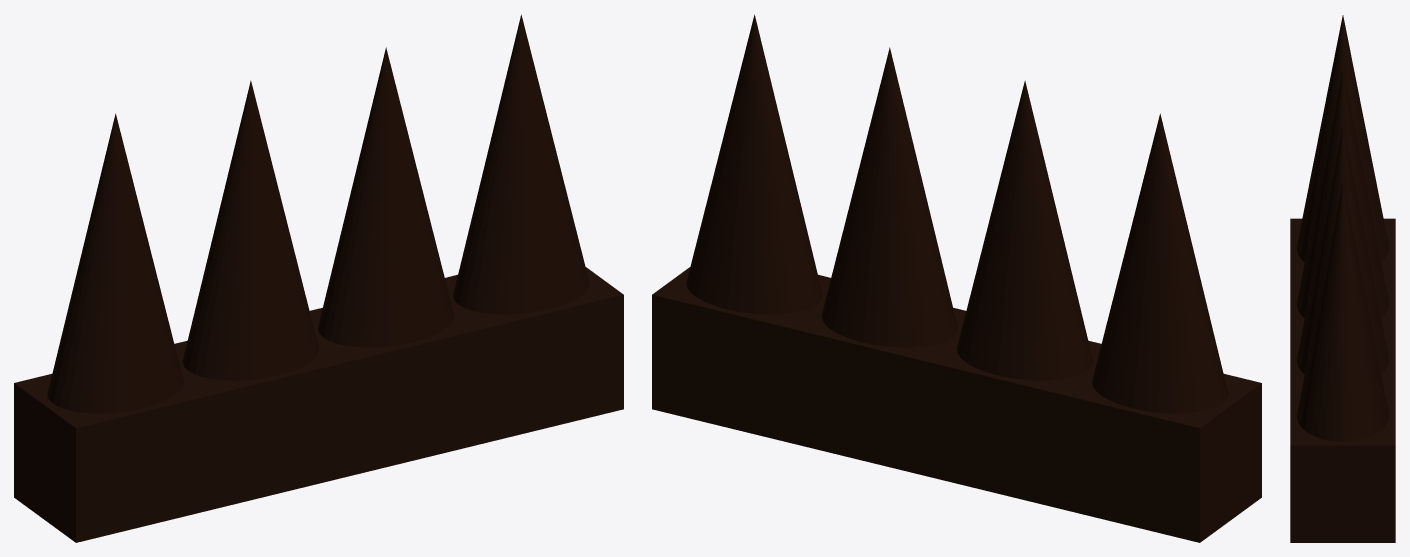
The model's file is Spike_2.fbx.
3 views of the same model, side by side, from view 1: azimuth 30°, elevation 25°; view 2: azimuth 150°, elevation 25°; view 3: azimuth 270°, elevation 25° (orthographic). The views are drawn at different scales.
Parts seen in each view (by area): view 1: Spike2, Base2; view 2: Spike2, Base2; view 3: Spike2, Base2.
Boxes of the visible parts, x1=… form: Spike2: x1=47, y1=14, x2=589, y2=413; Base2: x1=14, y1=267, x2=623, y2=542; Spike2: x1=686, y1=14, x2=1228, y2=413; Base2: x1=652, y1=267, x2=1261, y2=542; Spike2: x1=1296, y1=15, x2=1389, y2=441; Base2: x1=1290, y1=218, x2=1395, y2=542.
Size of the model in its own units: 118 by 80.59 by 23.2.
